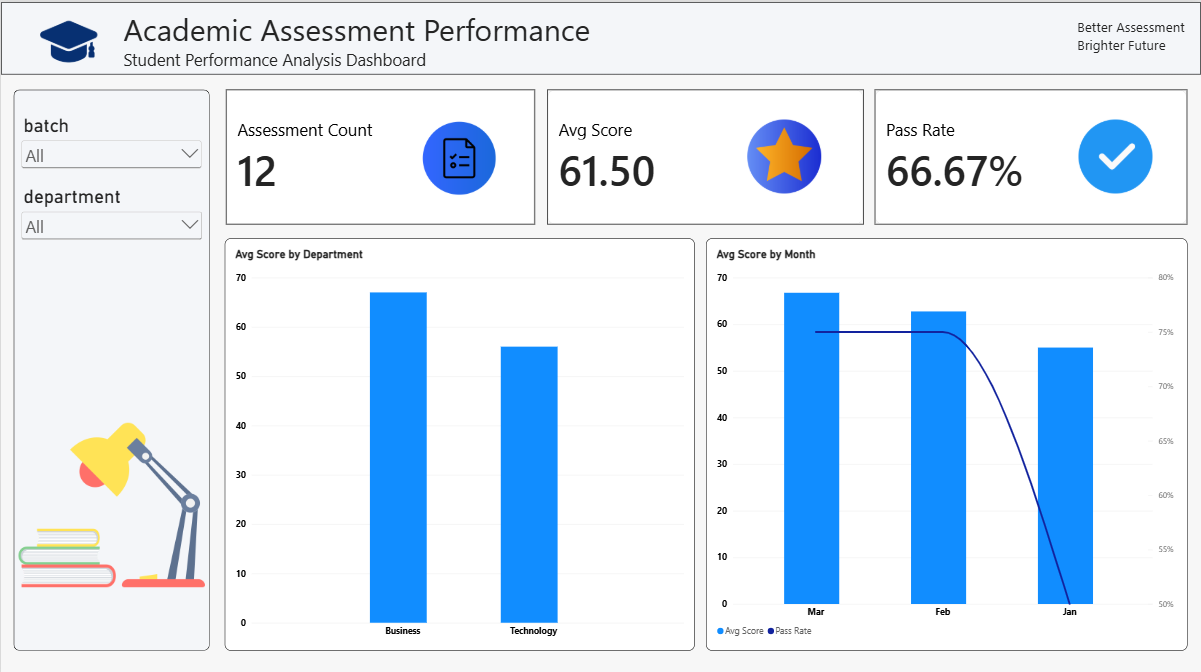

Layout of this report page (visuals, bound fields, positions):
{"tool":"powerbi","page":{"name":"Dashboard","canvas":[1920,1080],"ordinal":0},"visuals":[{"type":"group","id":"g1","title":"Header","box":[0,0,1920,116.4],"z":0},{"type":"shape","box":[0,0,1920,116],"z":0,"group":"g1"},{"type":"cardVisual","fields":{"Data":["measures table.Assessment Count"]},"box":[360,140,494,216],"z":0,"group":"g2"},{"type":"cardVisual","fields":{"Data":["measures table.Avg Score"]},"box":[874,140,506,216],"z":0,"group":"g3"},{"type":"cardVisual","fields":{"Data":["measures table.Pass Rate"]},"box":[1398,140,500,216],"z":0,"group":"g4"},{"type":"textbox","box":[1722,24,176,68],"z":1000,"group":"g1"},{"type":"shape","box":[20,140,314,898],"z":1000},{"type":"image","box":[632,180,202,140],"z":1000,"group":"g2"},{"type":"image","box":[1162,188,182,118],"z":1000,"group":"g3"},{"type":"image","box":[1692,188,182,118],"z":1000,"group":"g4"},{"type":"image","box":[52.4,18.4,112,92],"z":2000,"group":"g1"},{"type":"group","id":"g2","title":"Kpi_1","box":[360,140,494,216],"z":2000},{"type":"textbox","box":[196.4,10.4,792,106],"z":3000,"group":"g1"},{"type":"group","id":"g3","title":"Kpi_2","box":[874,140,506,216],"z":3000},{"type":"group","id":"g4","title":"Kpi_3","box":[1398,140,500,216],"z":4000},{"type":"columnChart","title":"Avg Score by Department","fields":{"Category":["courses.department"],"Y":["measures table.Avg Score"]},"box":[358,378,752,660],"z":5000},{"type":"lineStackedColumnComboChart","title":"Avg Score by Month","fields":{"Y":["measures table.Avg Score"],"Category":["assessments.month"],"Y2":["measures table.Pass Rate"]},"box":[1128,378,770,660],"z":6000},{"type":"slicer","fields":{"Values":["assessments.batch"]},"box":[28,180,298,102],"z":7000},{"type":"slicer","fields":{"Values":["courses.department"]},"box":[27.9,294.8,298.3,97.7],"z":8000},{"type":"image","box":[28,590,298,430],"z":9000}]}

Visuals, with their boxes in screenshot pixels (x1, y1, x2, y2), scaled from the page's 1920x1080 canvas onto the 1201x672 screenshot:
"Header" group: detection(0, 0, 1200, 72)
shape: detection(0, 0, 1200, 72)
cardVisual - measures table.Assessment Count: detection(225, 87, 534, 222)
cardVisual - measures table.Avg Score: detection(547, 87, 863, 222)
cardVisual - measures table.Pass Rate: detection(874, 87, 1187, 222)
textbox: detection(1077, 15, 1187, 57)
shape: detection(13, 87, 209, 646)
image: detection(395, 112, 522, 199)
image: detection(727, 117, 841, 190)
image: detection(1058, 117, 1172, 190)
image: detection(33, 11, 103, 69)
"Kpi_1" group: detection(225, 87, 534, 222)
textbox: detection(123, 6, 618, 72)
"Kpi_2" group: detection(547, 87, 863, 222)
"Kpi_3" group: detection(874, 87, 1187, 222)
"Avg Score by Department" columnChart: detection(224, 235, 694, 646)
"Avg Score by Month" lineStackedColumnComboChart: detection(706, 235, 1187, 646)
slicer - assessments.batch: detection(18, 112, 204, 175)
slicer - courses.department: detection(17, 183, 204, 244)
image: detection(18, 367, 204, 635)
